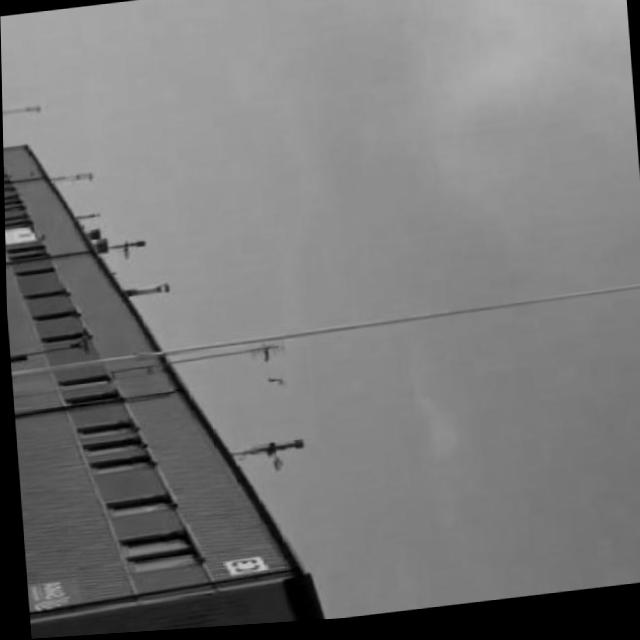helikopter: (255, 373, 291, 396)
